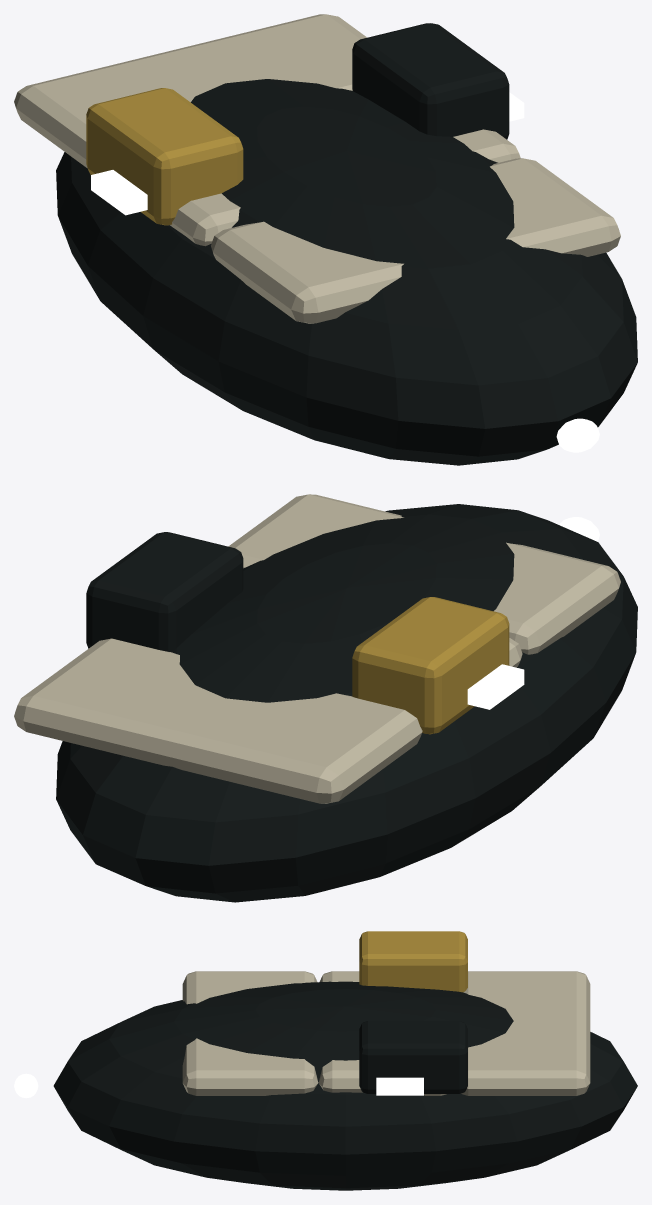
3 renders of one model, top to bottom at view 1: azimuth 30°, elevation 25°; view 2: azimuth 150°, elevation 25°; view 3: azimuth 270°, elevation 25°, orthographic. The views are drawn at different scales.
Parts seen in each view (by area): view 1: RIMWARD_HULL, RIMWARD_EMISSIVE, RIMWARD_ENGINE_GLOW; view 2: RIMWARD_HULL, RIMWARD_EMISSIVE, RIMWARD_ENGINE_GLOW; view 3: RIMWARD_HULL, RIMWARD_EMISSIVE, RIMWARD_ENGINE_GLOW.
Boxes of the visible parts, <box> form: RIMWARD_HULL: <box>14,14,637,465</box>; RIMWARD_EMISSIVE: <box>91,92,524,215</box>; RIMWARD_ENGINE_GLOW: <box>556,418,599,452</box>; RIMWARD_HULL: <box>14,494,637,902</box>; RIMWARD_EMISSIVE: <box>467,664,524,709</box>; RIMWARD_ENGINE_GLOW: <box>559,517,599,541</box>; RIMWARD_HULL: <box>53,931,637,1190</box>; RIMWARD_EMISSIVE: <box>376,1077,423,1095</box>; RIMWARD_ENGINE_GLOW: <box>14,1073,38,1098</box>.
Size of the model in its own units: 8.13 by 4.91 by 15.61.
